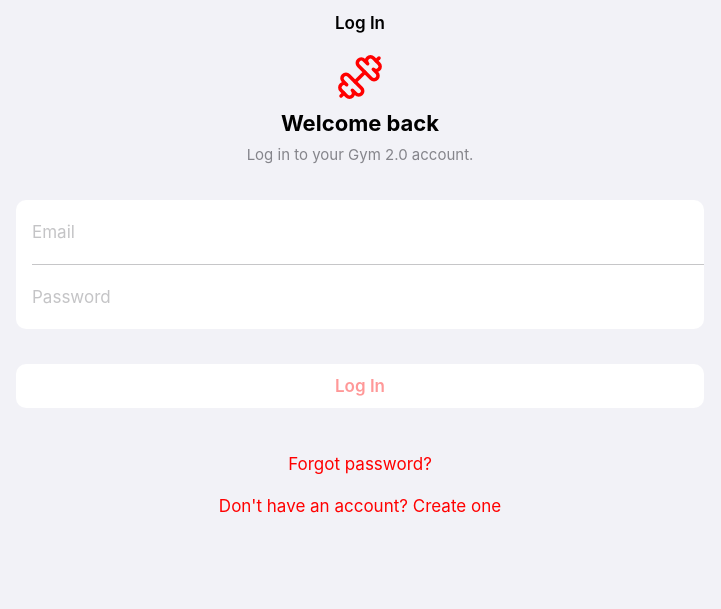
Test: LoginView › doesn't offer to resend the email for other errors
In the field with placeholder "Email": (360, 232) [32,210,688,254], type "alice@example.com"
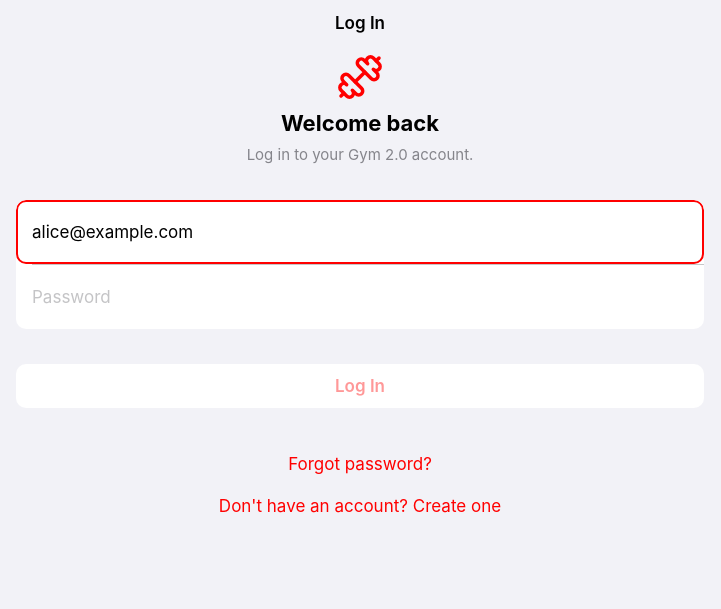
In the password field with placeholder "Password": (360, 297) [32,275,688,319], type "wrong"
Then press Enter
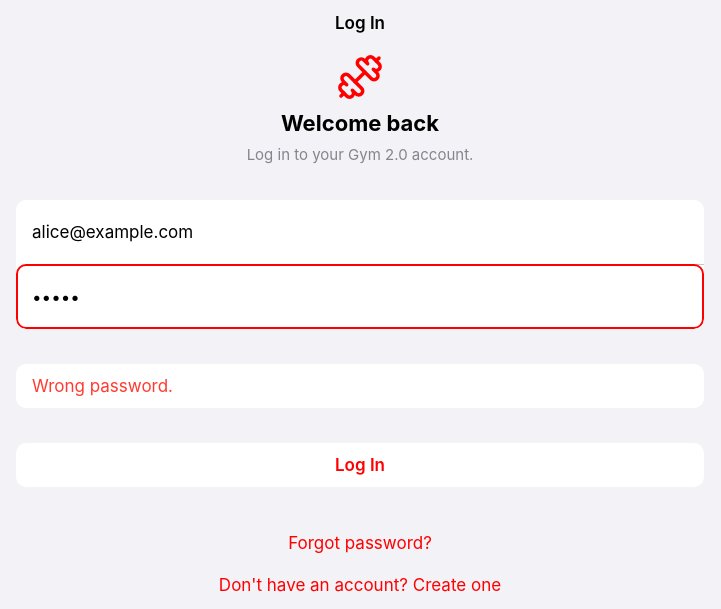
Now the text "Wrong password." is shown, box [32,375,173,397]
